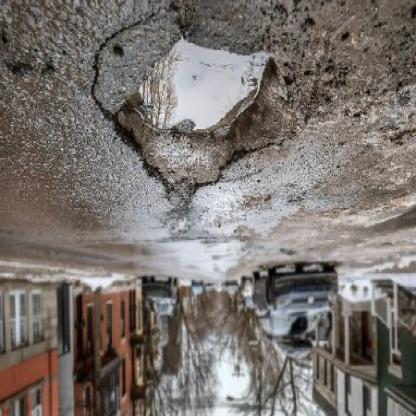pothole: (88, 3, 314, 215)
